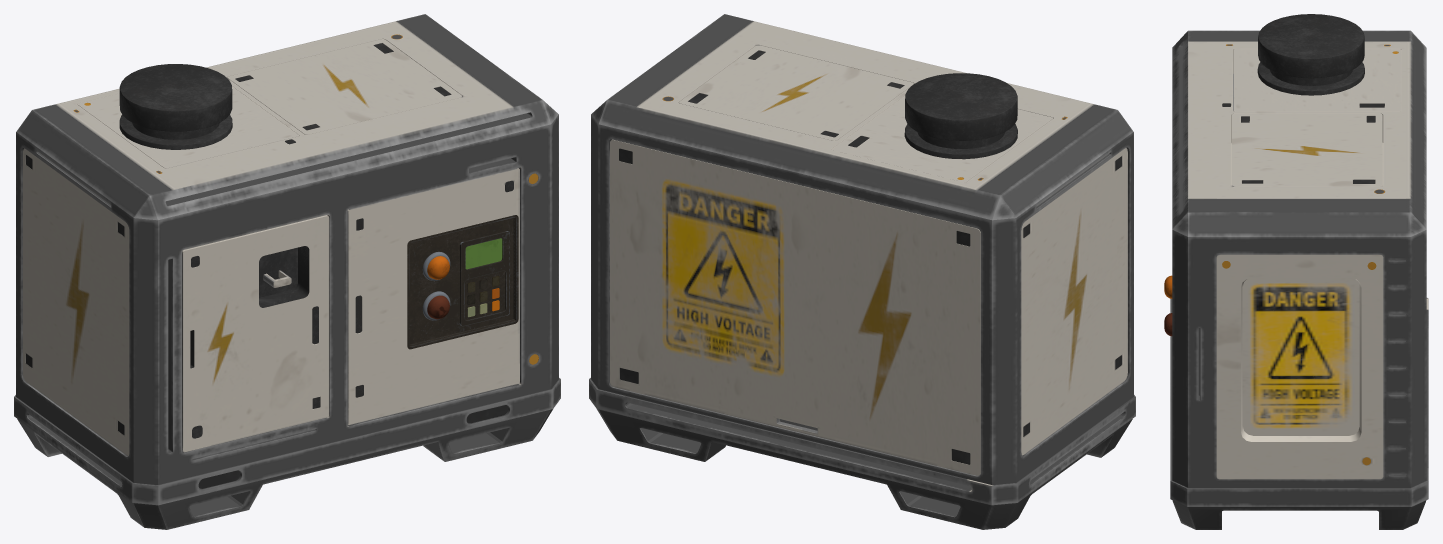
File: generator_stylized_sci-fi_generator.glb
The picture shows the model from 3 angles, left to right: view 1: azimuth 30°, elevation 25°; view 2: azimuth 150°, elevation 25°; view 3: azimuth 270°, elevation 25°; orthographic projection. The views are drawn at different scales.
Parts seen in each view (by area): view 1: SM_Generator_12342; view 2: SM_Generator_12342; view 3: SM_Generator_12342.
Boxes of the visible parts, x1,y1,x2,y2 form: SM_Generator_12342: (14,14,560,529); SM_Generator_12342: (589,14,1135,529); SM_Generator_12342: (1164,14,1428,529).
Size of the model in its own units: 1.16 by 0.9637 by 0.6527.
Materials: 2 (2 with a texture image).
